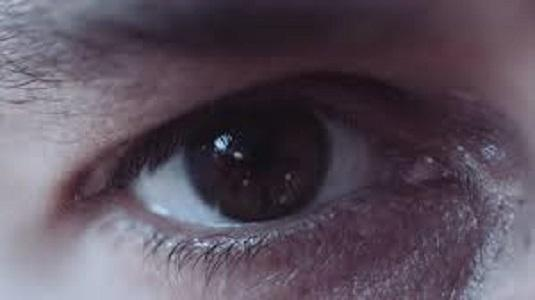open: (23, 38, 532, 288)
